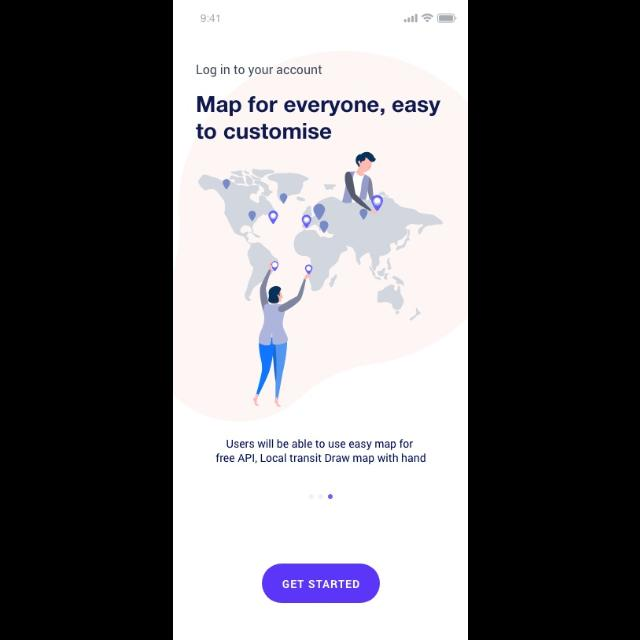image: (198, 151, 442, 407)
pageindicator: (308, 494, 334, 501)
text: (196, 96, 440, 140), (216, 439, 426, 465), (196, 64, 322, 78)
textbutton: (262, 563, 381, 603)
uppertaskbar: (200, 13, 456, 24)
